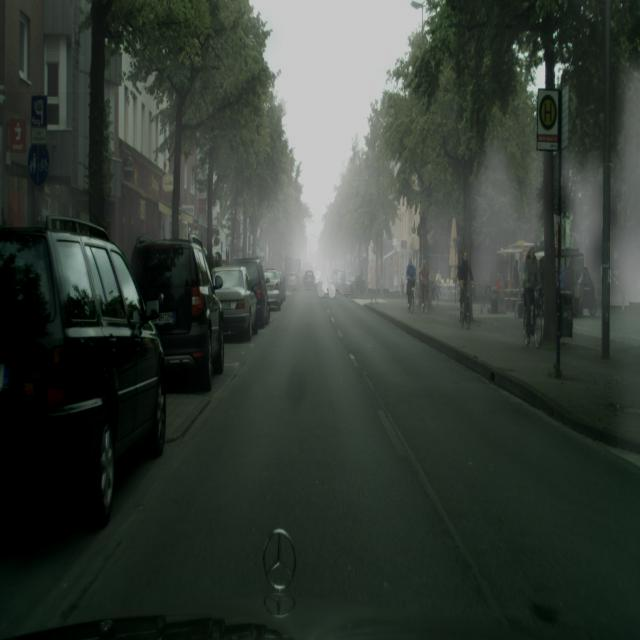bus: (0, 218, 168, 529), (130, 234, 225, 391), (212, 265, 258, 342), (231, 258, 271, 330), (264, 269, 285, 311), (302, 268, 315, 289), (287, 271, 298, 290)
car: (523, 246, 544, 348), (460, 254, 473, 330), (407, 261, 415, 314)
person: (420, 260, 429, 311)
